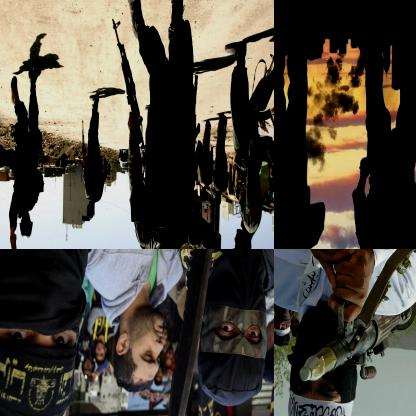knife: (161, 249, 240, 415)
rifle: (295, 295, 415, 386), (108, 12, 146, 156), (233, 46, 273, 175), (78, 117, 88, 175)
